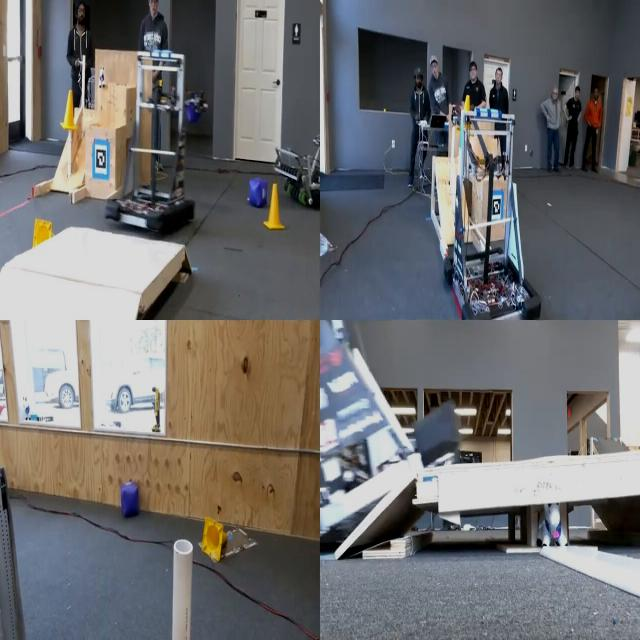frc_cone: (200, 512, 230, 564), (266, 181, 286, 236), (460, 91, 476, 131), (63, 87, 77, 131)
frc_cube: (118, 473, 148, 528), (30, 209, 55, 260), (250, 180, 264, 212)
